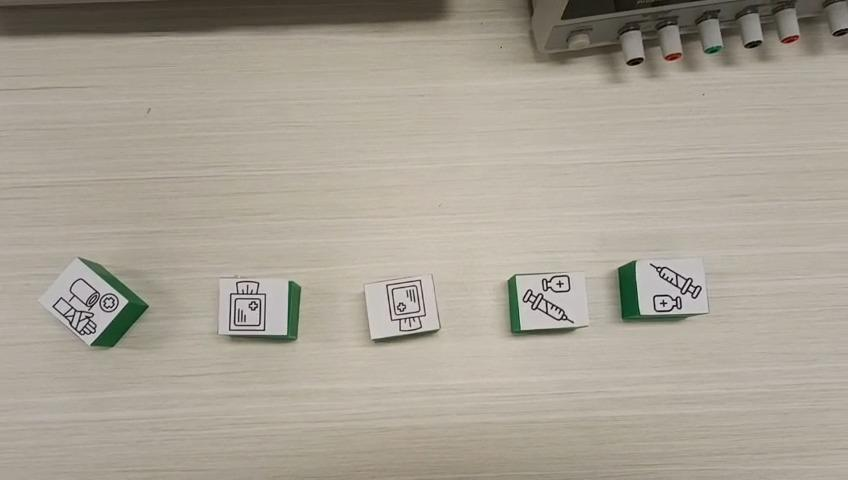Bandages: (36, 256, 148, 348)
Gauze: (362, 272, 442, 340), (219, 278, 303, 342)
antiseptic cream: (617, 255, 710, 321), (506, 271, 592, 334)
